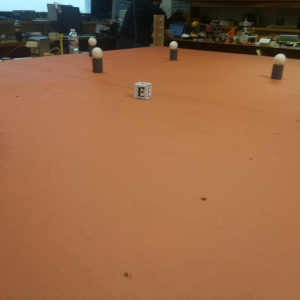blockE: (135, 80, 155, 101)
corner: (154, 15, 166, 47)
obstacle: (92, 49, 105, 76), (273, 55, 287, 80), (169, 42, 178, 63), (89, 37, 97, 56)
